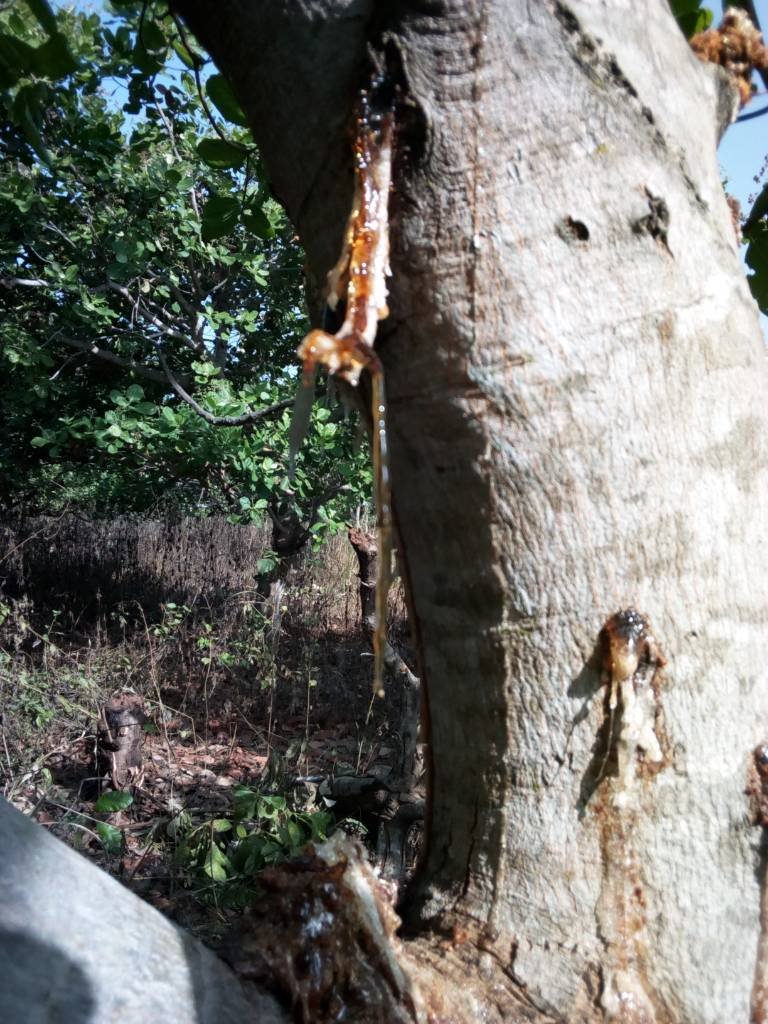Mecocorynus longiceps: (264, 100, 471, 422), (569, 588, 674, 736), (683, 1, 768, 139)
